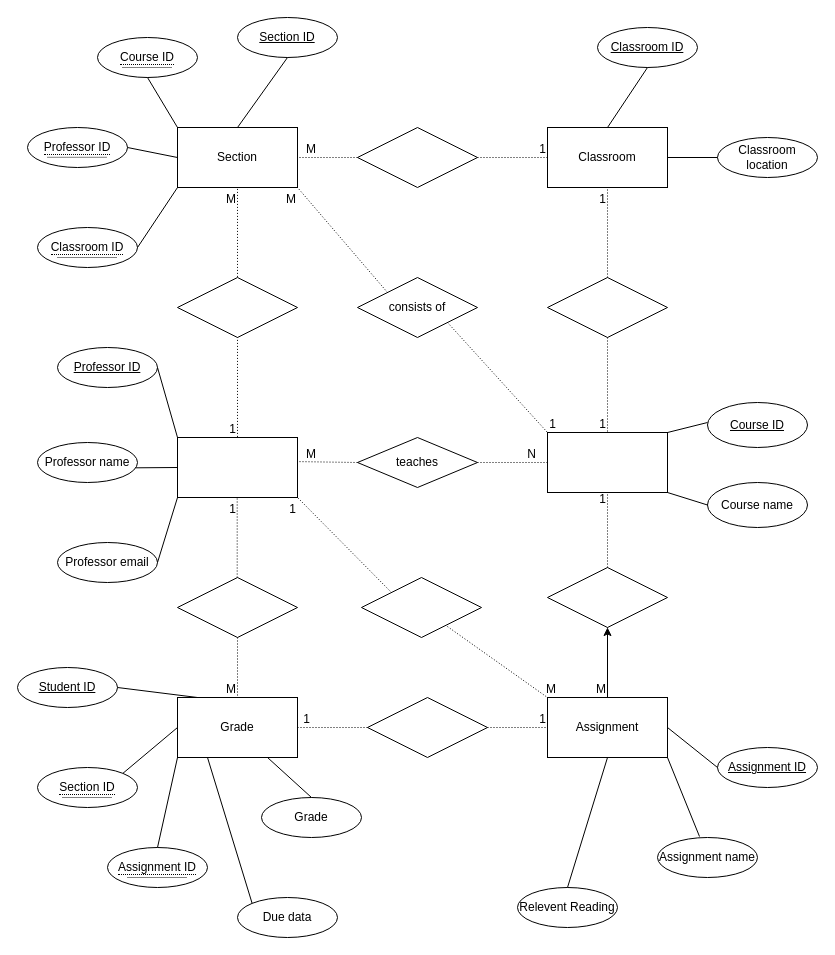
Image size: 835x955. Some labels were removed from this diagram. The box of each missing label's shape, as (x1, y1, x2, y2) in pixels:
assigns: (360, 576, 482, 638)
Course: (546, 432, 668, 492)
distributes: (546, 276, 668, 338)
generates: (366, 696, 488, 758)
gives: (176, 576, 298, 638)
has: (176, 276, 298, 338)
hosts: (356, 126, 478, 188)
includes: (546, 566, 668, 628)
Professor: (176, 436, 298, 498)
